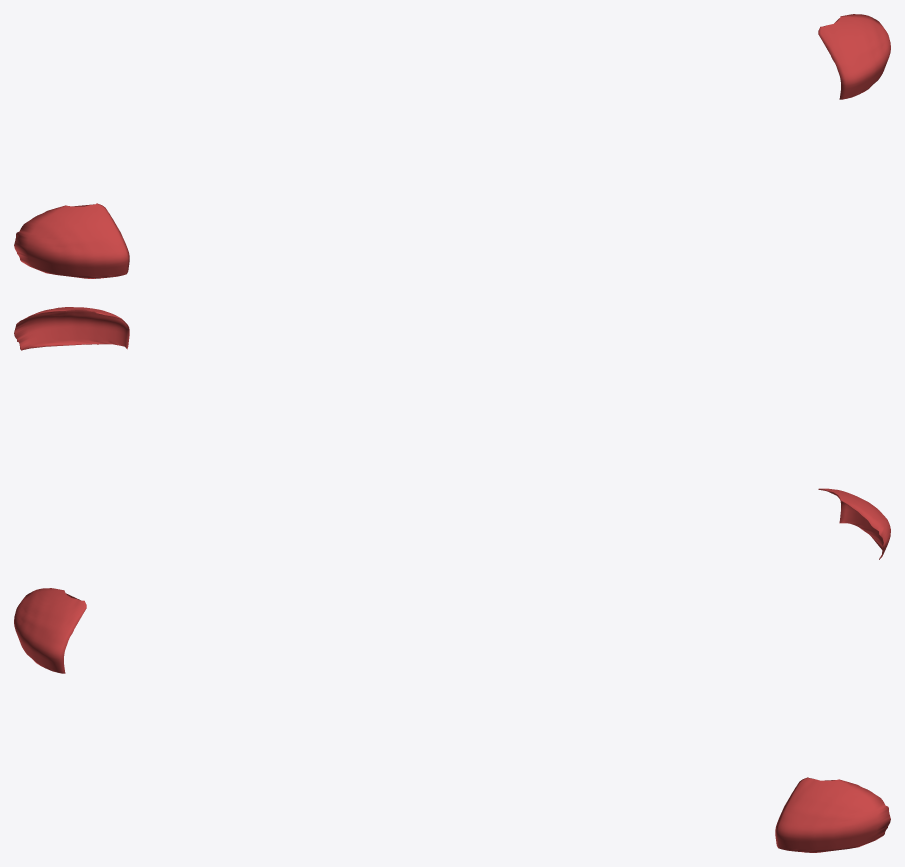
File: DT75_mirror_caps_accent.glb
The picture shows the model from 3 angles, top to bottom: view 1: azimuth 30°, elevation 25°; view 2: azimuth 150°, elevation 25°; view 3: azimuth 330°, elevation 25°; orthographic projection.
Visible parts, largest first — view 1: MOD_ND_DT75_cap_R, MOD_ND_DT75_cap_L; view 2: MOD_ND_DT75_cap_L, MOD_ND_DT75_cap_R; view 3: MOD_ND_DT75_cap_L, MOD_ND_DT75_cap_R.
Boxes of the visible parts, box(x1,y1,x2,y2) form: MOD_ND_DT75_cap_R: box(14, 203, 129, 278); MOD_ND_DT75_cap_L: box(818, 14, 890, 99); MOD_ND_DT75_cap_L: box(14, 307, 129, 350); MOD_ND_DT75_cap_R: box(818, 488, 890, 559); MOD_ND_DT75_cap_L: box(775, 777, 890, 852); MOD_ND_DT75_cap_R: box(14, 588, 86, 673).
Size of the model in its own units: 1.94 by 0.1145 by 0.1538.
